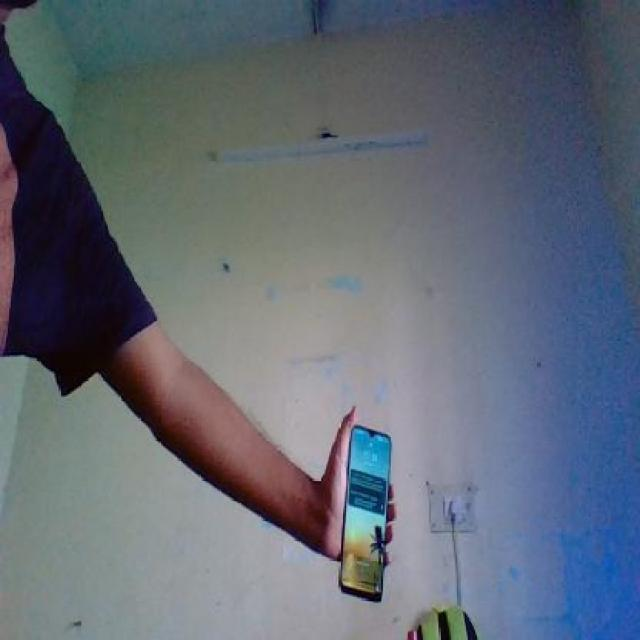Phone: (335, 423, 399, 603)
